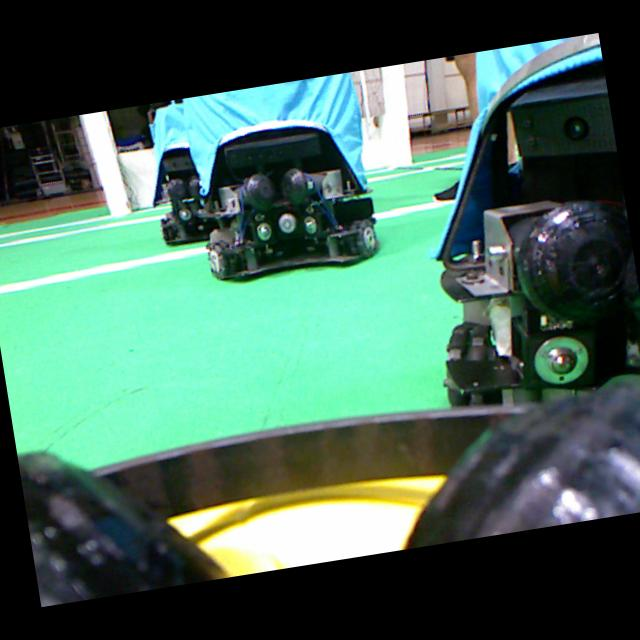ball: (168, 475, 445, 576)
goal: (80, 111, 130, 216), (381, 64, 412, 167)
